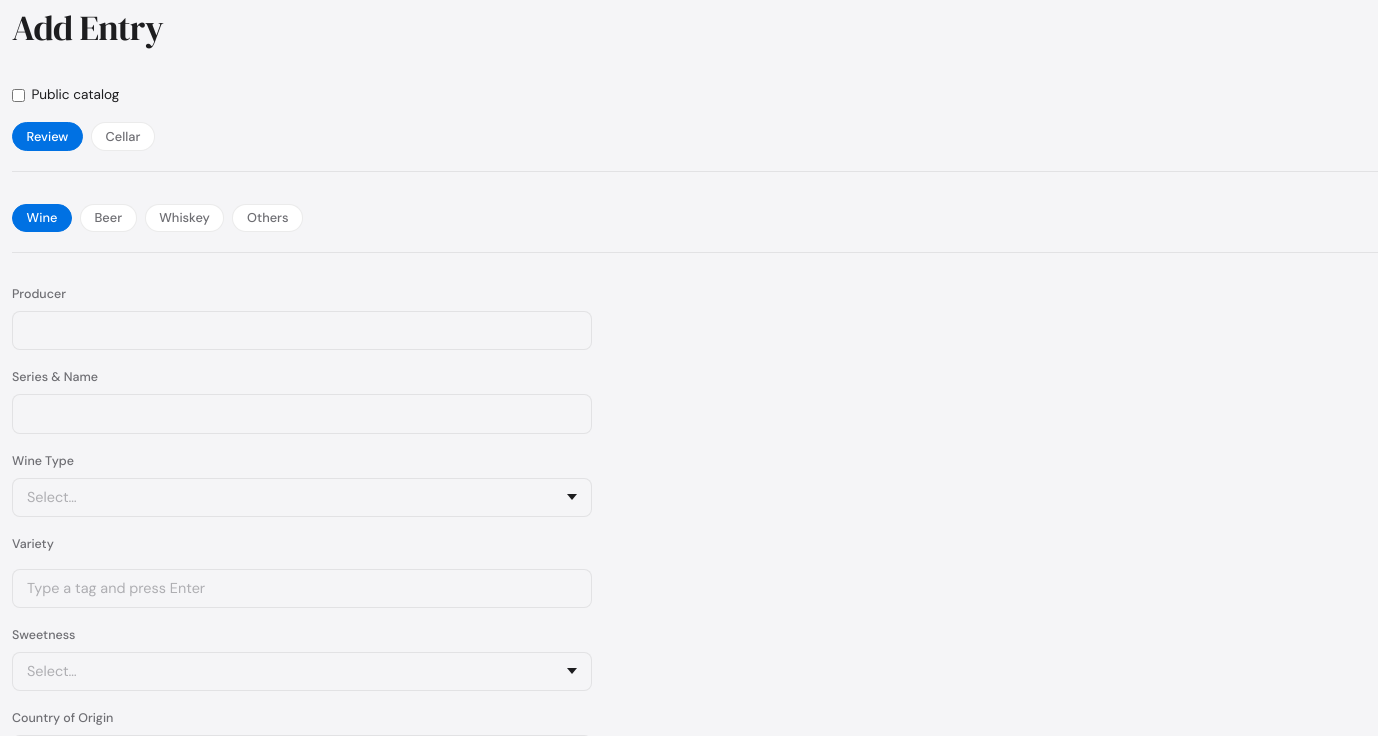
Test: sweetness select does not render for beer
Click the button "Beer" at coordinates (108, 218), box [80,204,137,232]
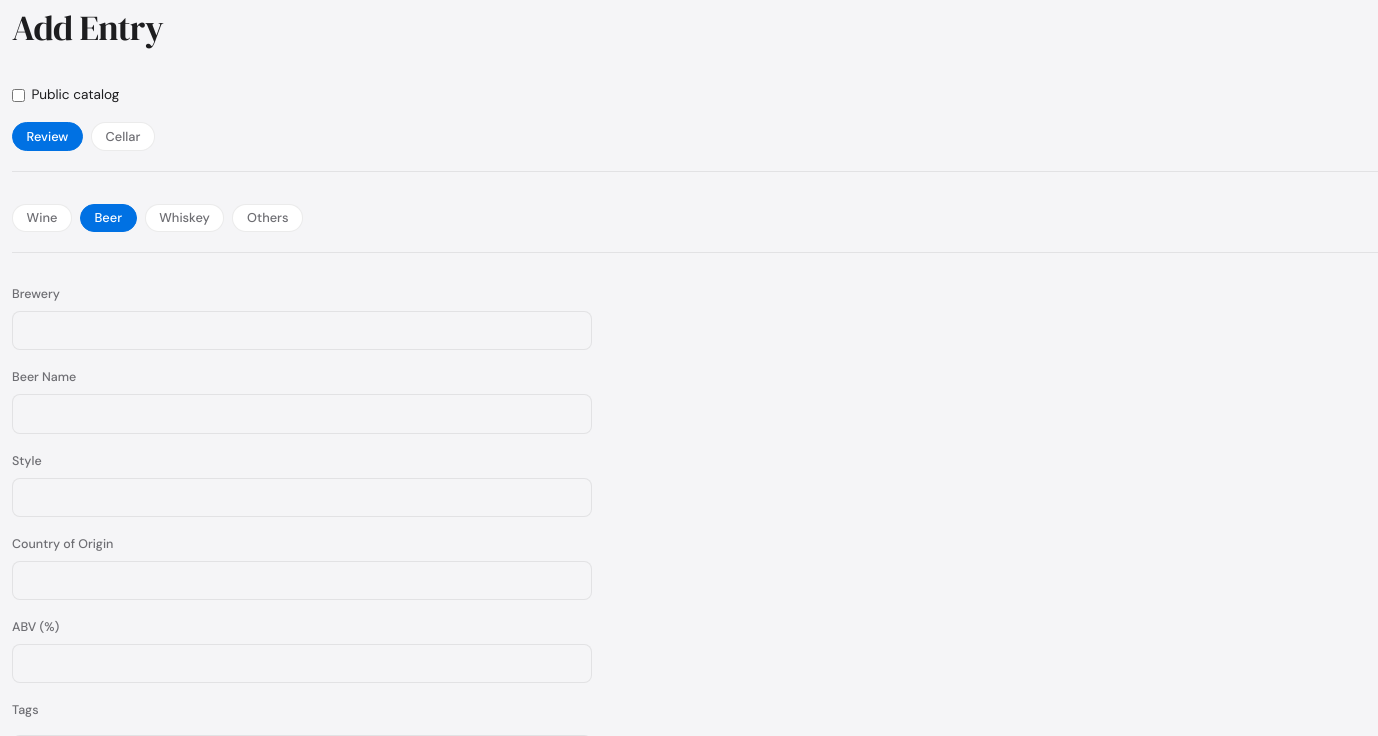
Check: the label labelled "Sweetness" is gone
